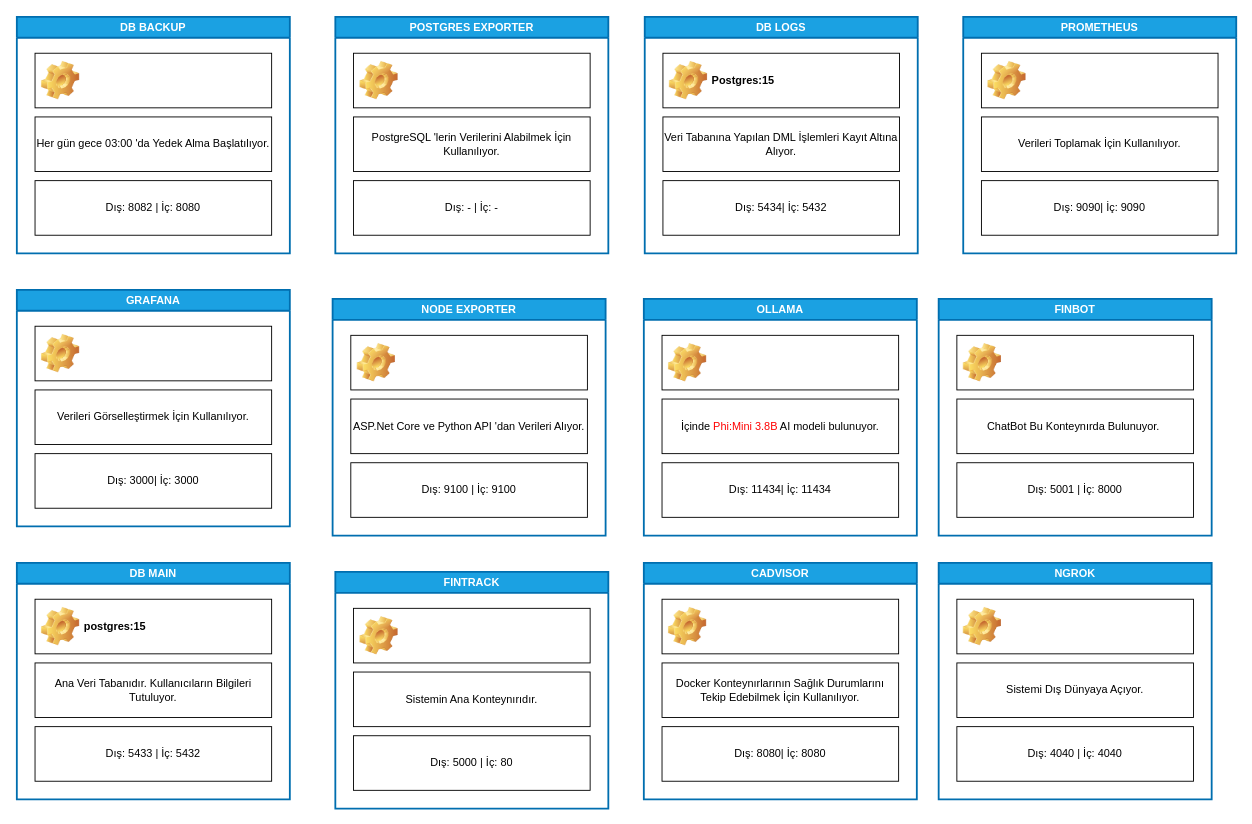
Some shapes in this 1252 by 824 pixel diagram are drawn without their labels. The centre of each missing label's shape, as x and y in pixels:
gcr.io/cadvisor/cadvisor:latest: the point at 780,626
Grafana/Grafana-oss:latest: the point at 153,353
mcr.microsoft.com/dotnet/sdk:8.0: the point at 471,635
ngrok/ngrok:latest: the point at 1074,626
Ollama/Ollama: the point at 780,362
Prodrigestivill/Postgres-Backup-Local: the point at 153,80
prom/node-exporter:latest: the point at 468,362
Prom/Prometheus:latest: the point at 1099,80
python:3.10-slim: the point at 1074,362
quay.io/prometheuscommunity/ postgres-exporter:latest: the point at 471,80
